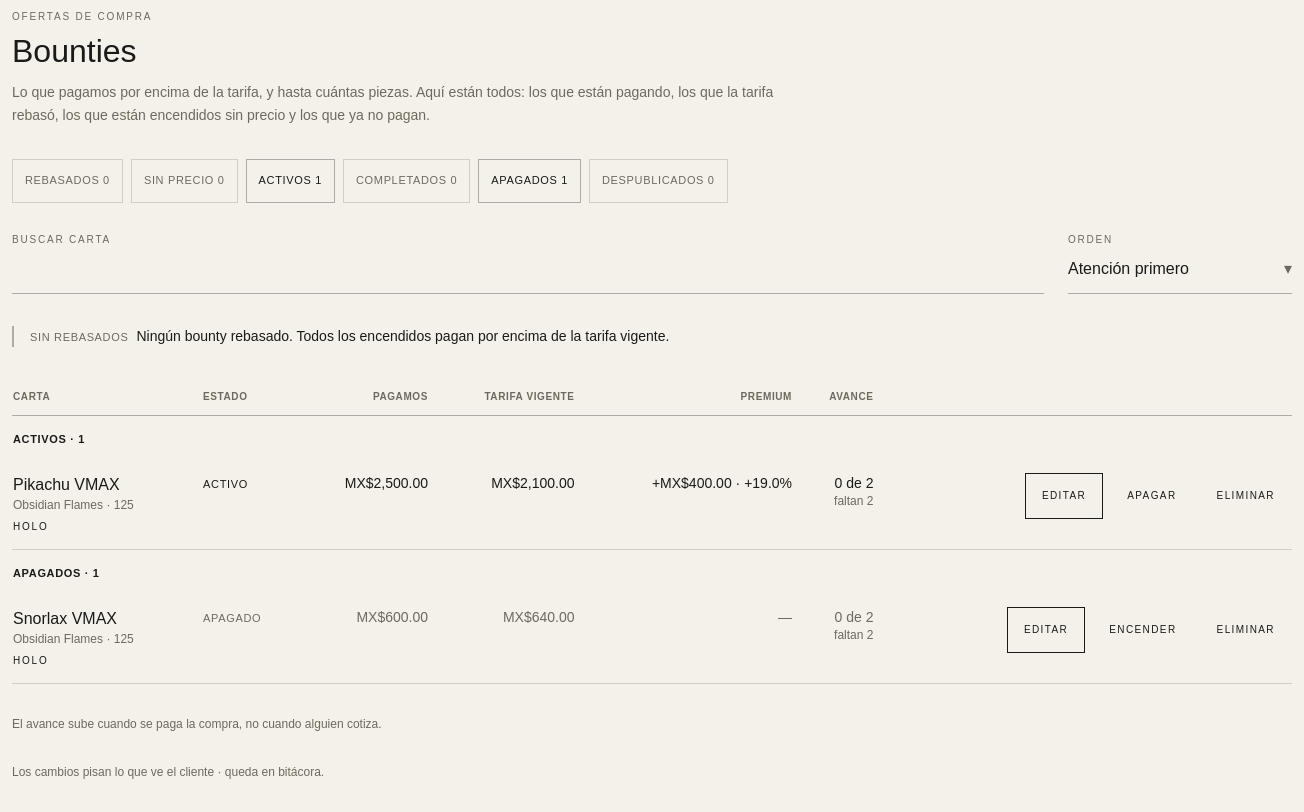
Test: ⭐⭐ caso 19 — con un filtro de identidad puesto, la pantalla NO afirma sobre «todos» › ⭐ CONTROL NEGATIVO 2: un CHIP DE ESTADO no es filtro de identidad ⇒ el cero se enuncia igual
Expected: the text "Ningún bounty rebasado. Todos los encendidos pagan por encima de la tarifa vigente." is shown, x1=136 y1=328 x2=669 y2=344
Click the button "APAGADOS 1" at (530, 181), box x1=478 y1=159 x2=581 y2=203
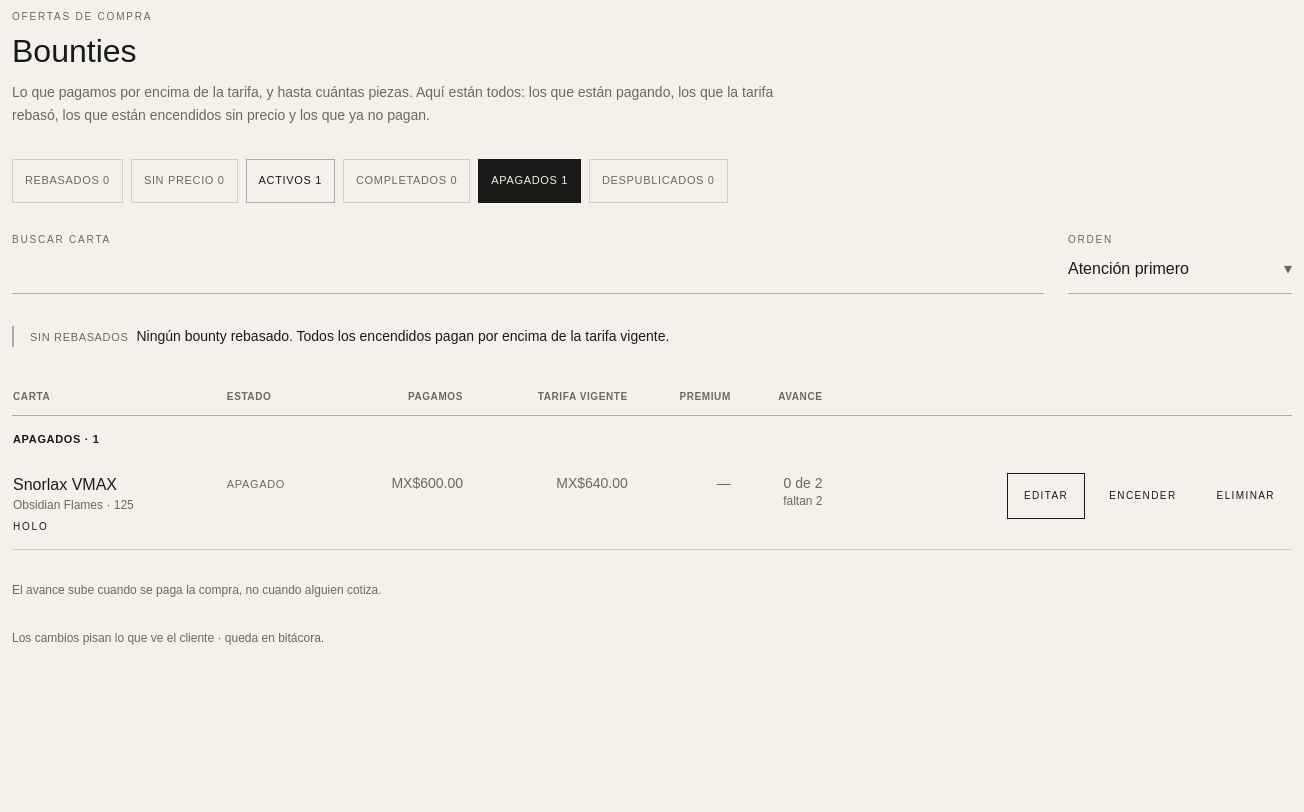
Expected: the link "Snorlax VMAX" is shown, x1=13 y1=476 x2=117 y2=493
Result: the link "Pikachu VMAX" is gone
